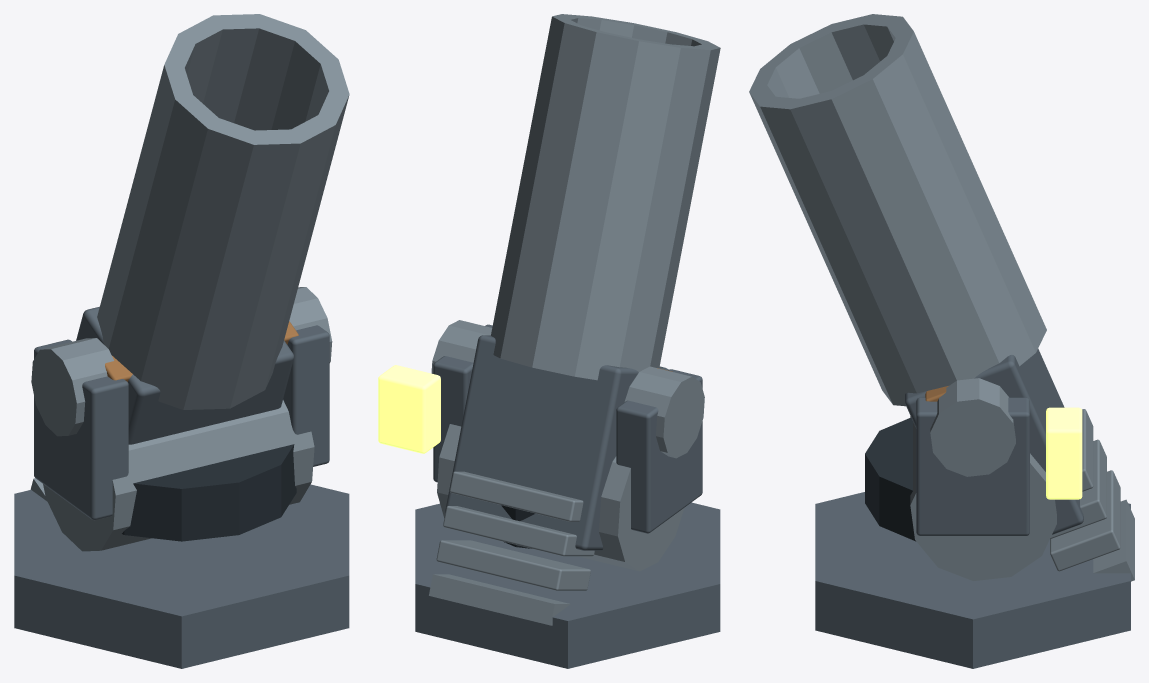
File: mortar_t3_d0.glb
The picture shows the model from 3 angles, left to right: view 1: azimuth 30°, elevation 25°; view 2: azimuth 150°, elevation 25°; view 3: azimuth 270°, elevation 25°; orthographic projection. The views are drawn at different scales.
Parts seen in each view (by area): view 1: RECOIL_ARMOR_GEOMETRY, BASE_ARMOR_GEOMETRY, YAW_ARMOR_GEOMETRY; view 2: RECOIL_ARMOR_GEOMETRY, BASE_ARMOR_GEOMETRY, YAW_ARMOR_GEOMETRY, YAW_SIGNAL_GEOMETRY; view 3: RECOIL_ARMOR_GEOMETRY, BASE_ARMOR_GEOMETRY, YAW_ARMOR_GEOMETRY, YAW_SIGNAL_GEOMETRY.
Boxes of the visible parts, x1,y1,x2,y2 form: RECOIL_ARMOR_GEOMETRY: (30, 14, 349, 551); BASE_ARMOR_GEOMETRY: (14, 484, 349, 668); YAW_ARMOR_GEOMETRY: (34, 325, 329, 541); RECOIL_ARMOR_GEOMETRY: (429, 14, 720, 625); BASE_ARMOR_GEOMETRY: (415, 502, 720, 668); YAW_ARMOR_GEOMETRY: (433, 324, 702, 548); YAW_SIGNAL_GEOMETRY: (378, 365, 440, 453); RECOIL_ARMOR_GEOMETRY: (749, 14, 1134, 581); BASE_ARMOR_GEOMETRY: (815, 492, 1130, 668); YAW_ARMOR_GEOMETRY: (865, 397, 1029, 541); YAW_SIGNAL_GEOMETRY: (1046, 407, 1082, 499).
Bounding box in the file's own units: 1.6 × 2.72 × 1.69.
